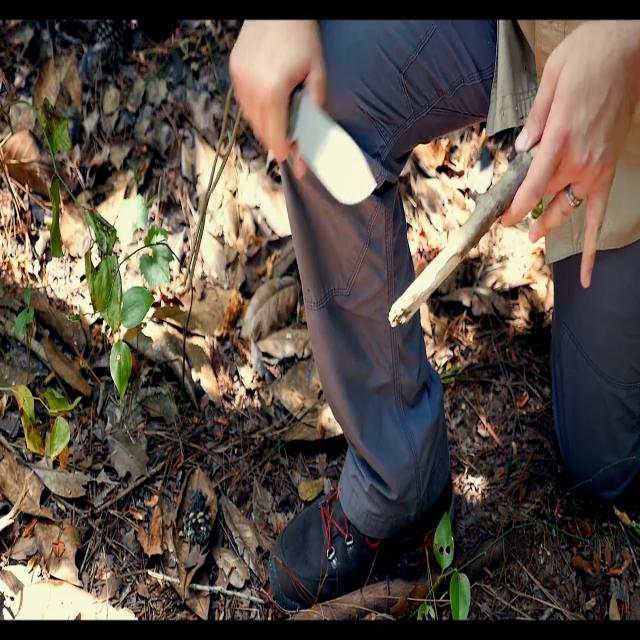knife: (293, 88, 381, 210)
